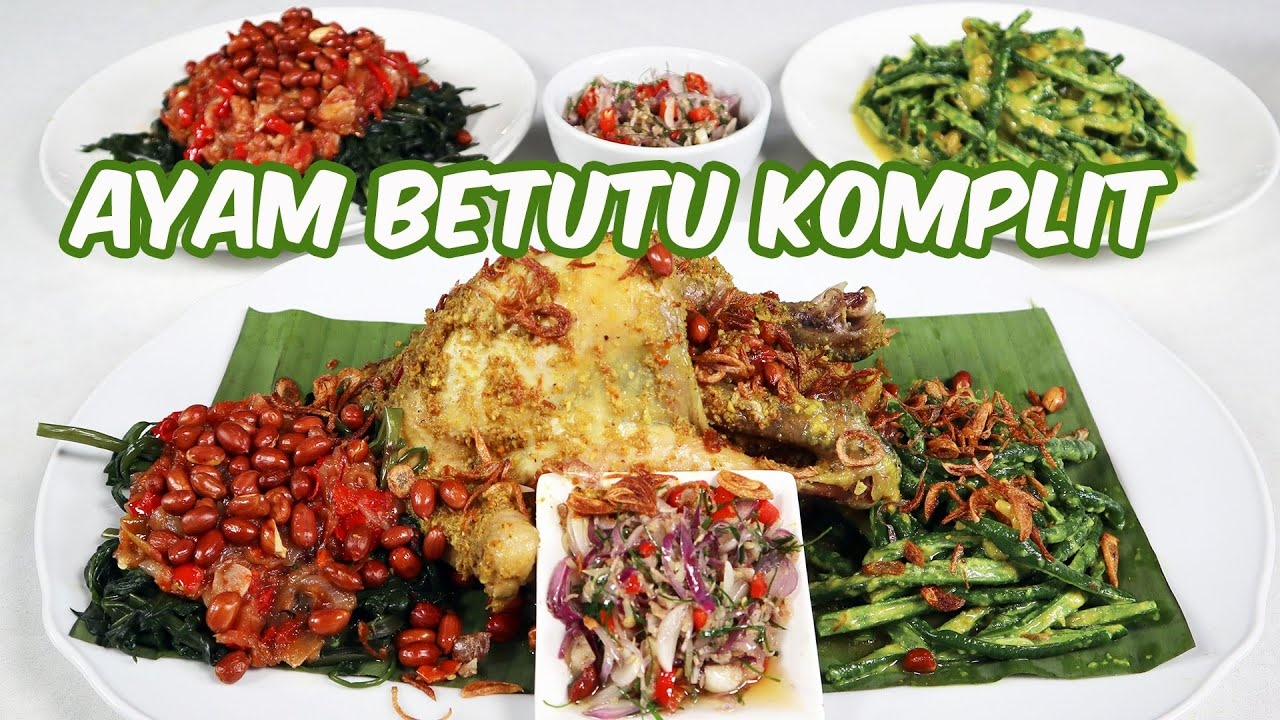ayam_betutu: (388, 260, 875, 470)
